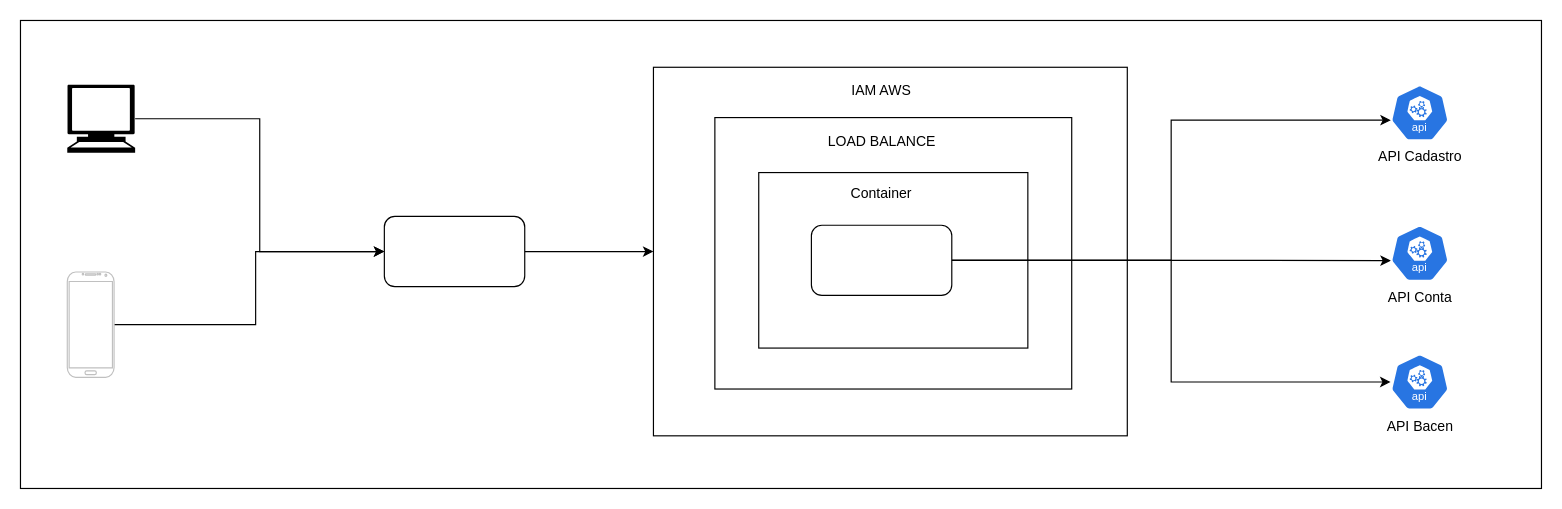
This 1562x509 diagram has some shape labels left out. Here are the shapes that lost their labels. From the top down, the box of each, then its label:
(383, 215, 525, 287): BFF
(810, 224, 952, 295): API transferências
